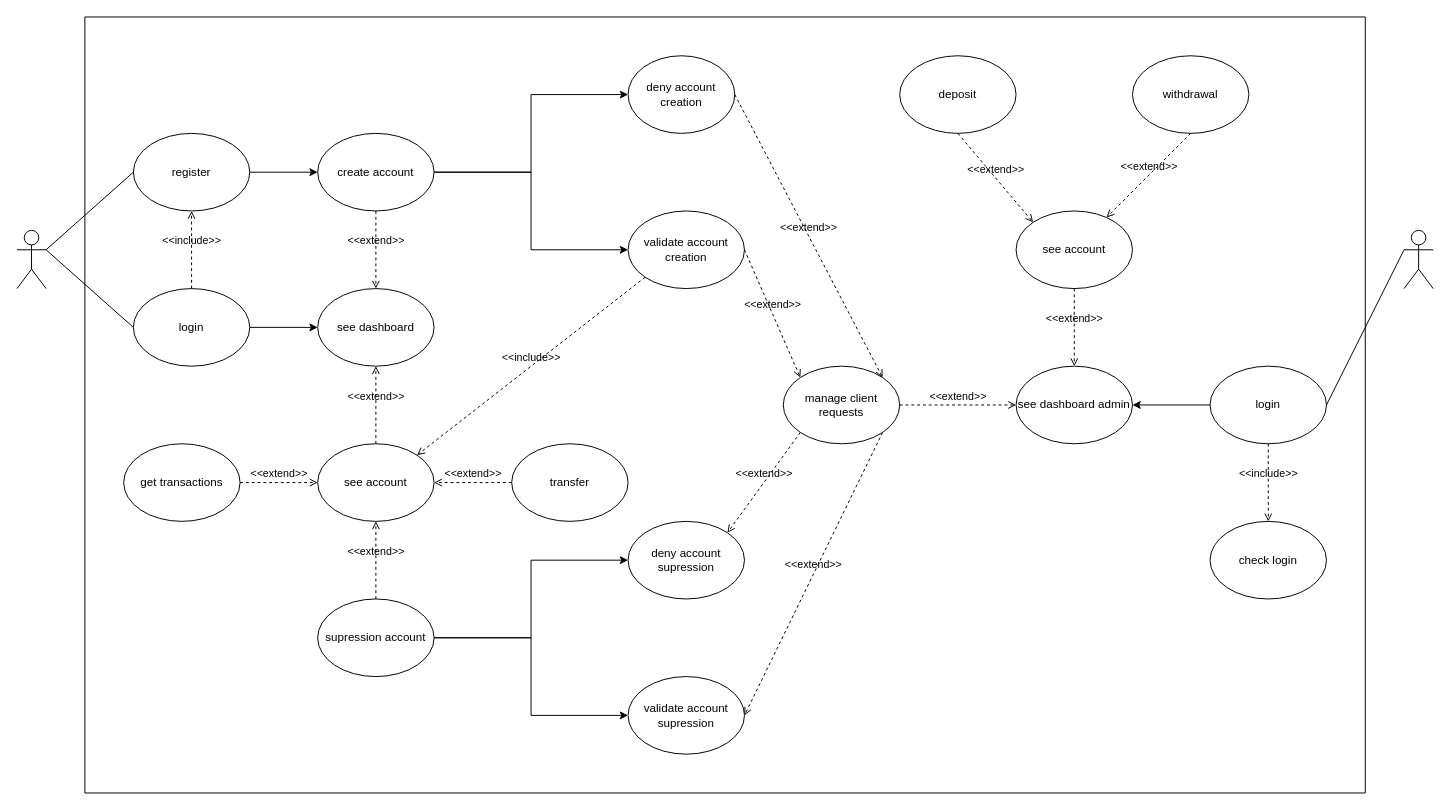
The diagram is 1452 pixels wide and 810 high, and some of its shapes have lost their labels. The box of each missing label's shape, as (x1, y1, x2, y2) in pixels:
Admin: (1403, 229, 1433, 289)
Client: (16, 229, 46, 289)
